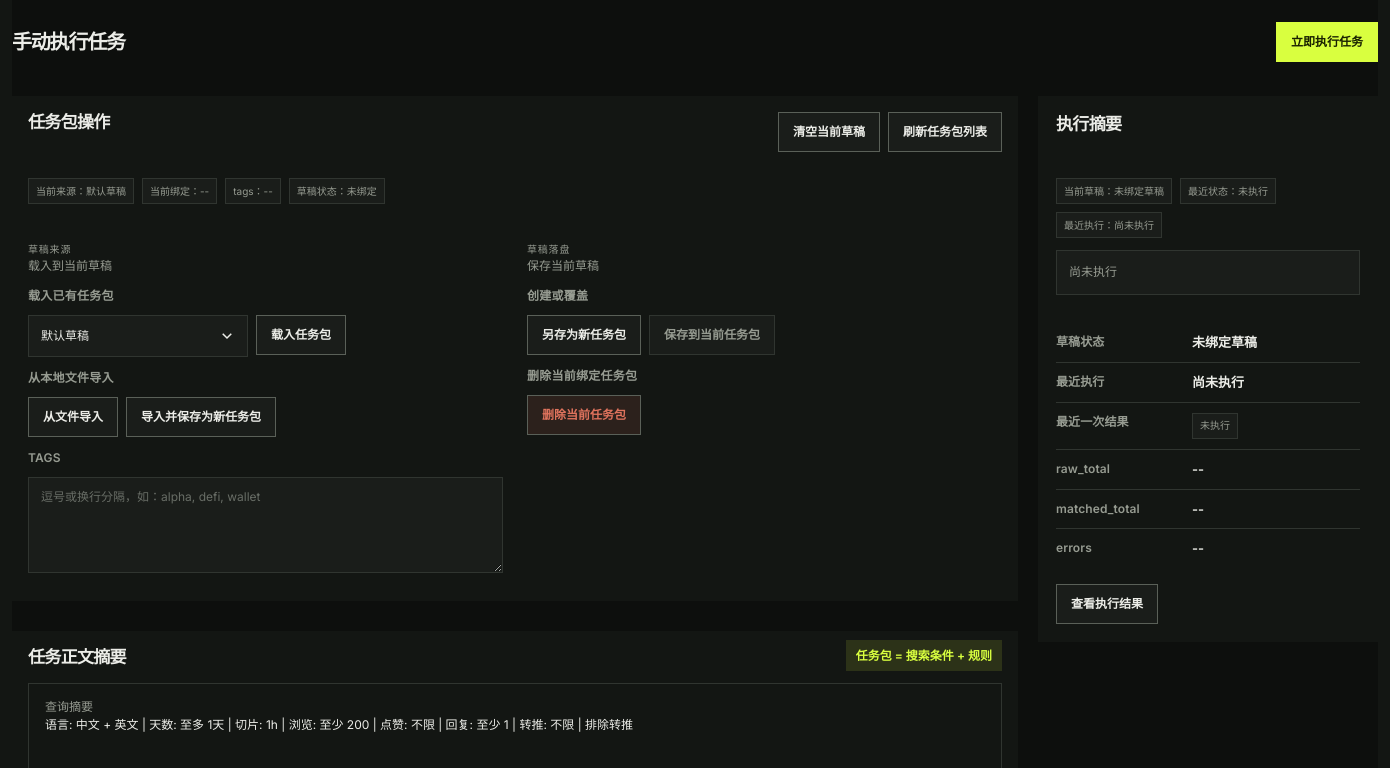
ManualSearchPage › deletes the current task pack and resets back to an unbound draft
Select "Alpha Watch" in the dropdown named "manual-pack-select" at (138, 336), box 28,315 -> 248,357
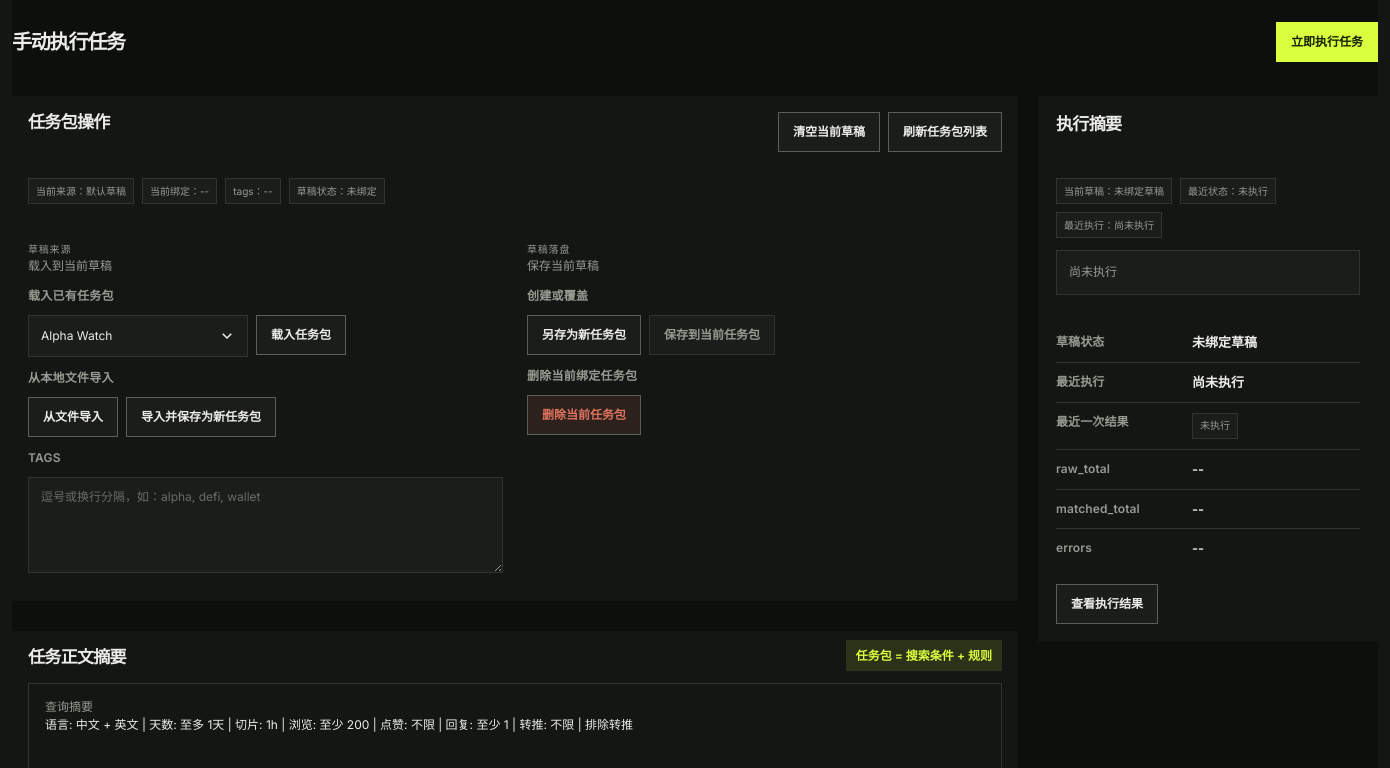
Click the button with test id "manual-load-pack" at (301, 335), box 256,315 -> 346,355
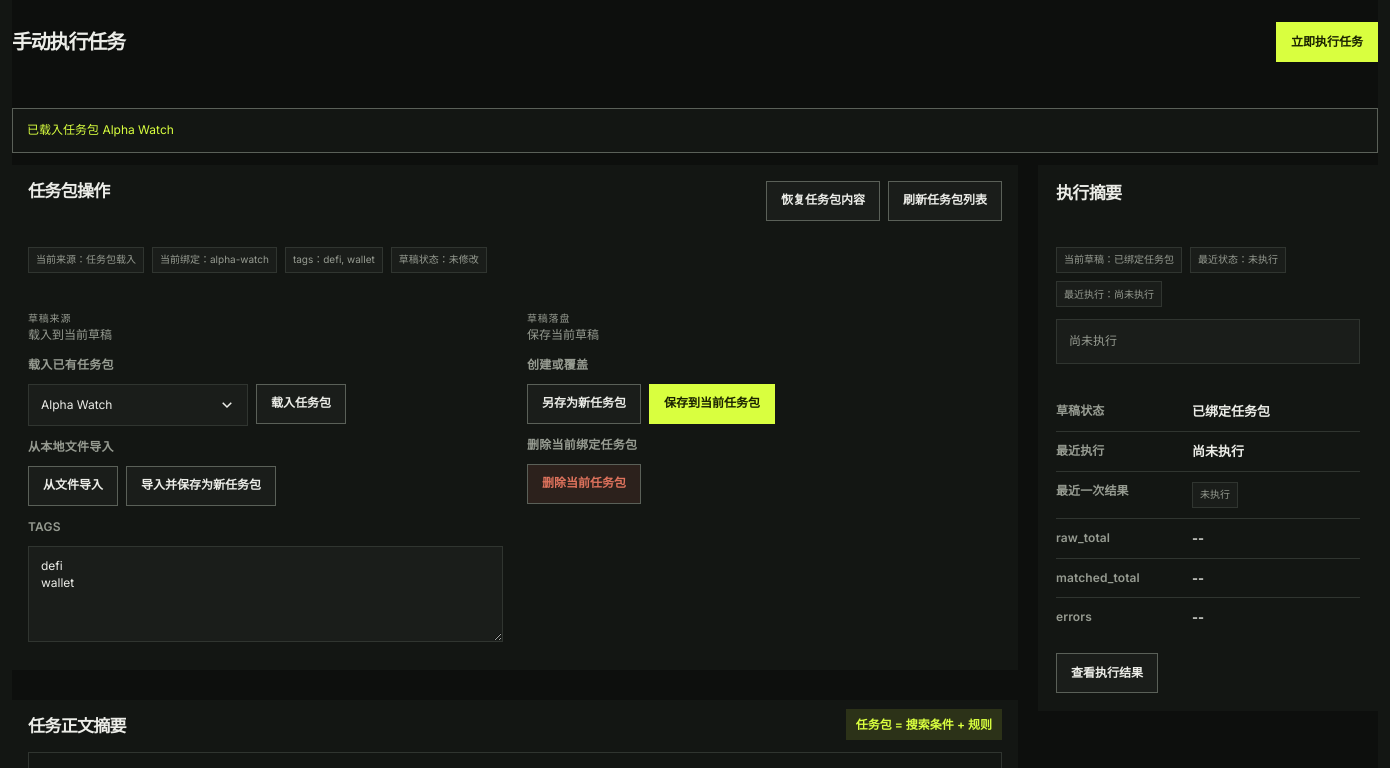
Check: the text "当前绑定：alpha-watch" is shown, box 152,247 -> 277,273
Click the button with test id "manual-delete-pack" at (584, 484), box 527,464 -> 641,504
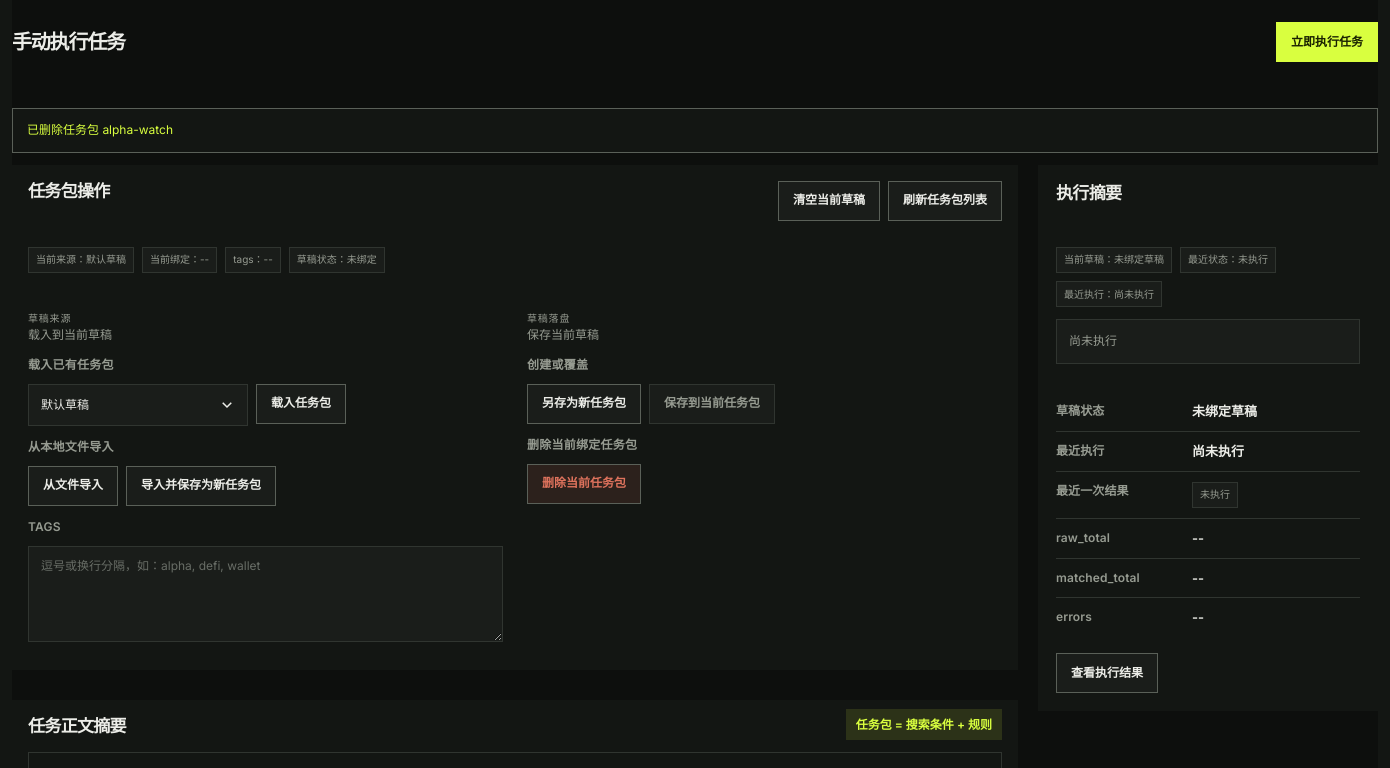
Check: the text "当前绑定：--" is shown, box 142,247 -> 217,273
Check: the text "已删除任务包 alpha-watch" is shown, box 12,108 -> 1378,153
